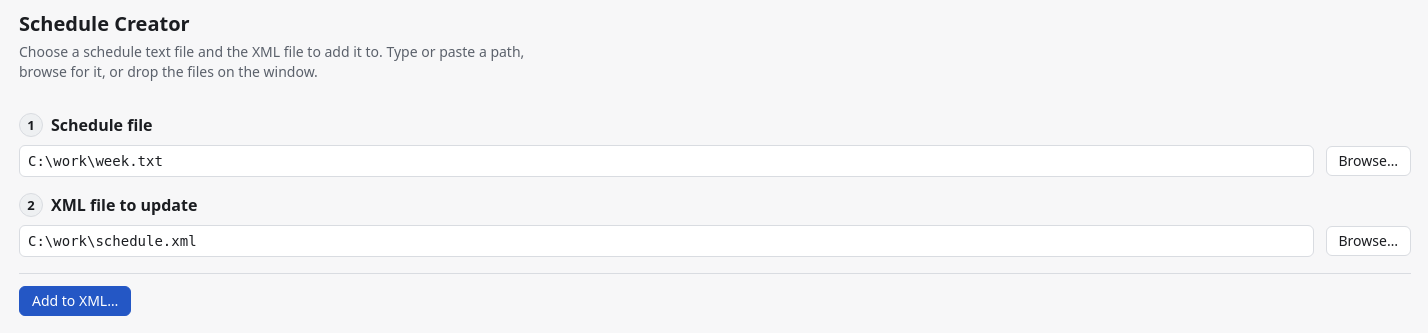
Test case: Escape restores the field
The width and height of the screenshot is (1428, 333).
Type "zzz" into the field labelled "Schedule file" at (666, 161), box x1=19 y1=145 x2=1314 y2=177
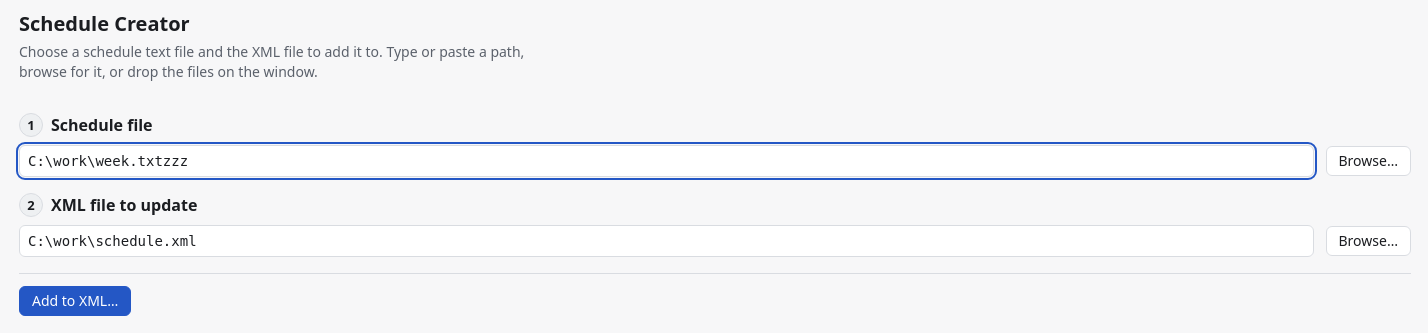
Press Escape
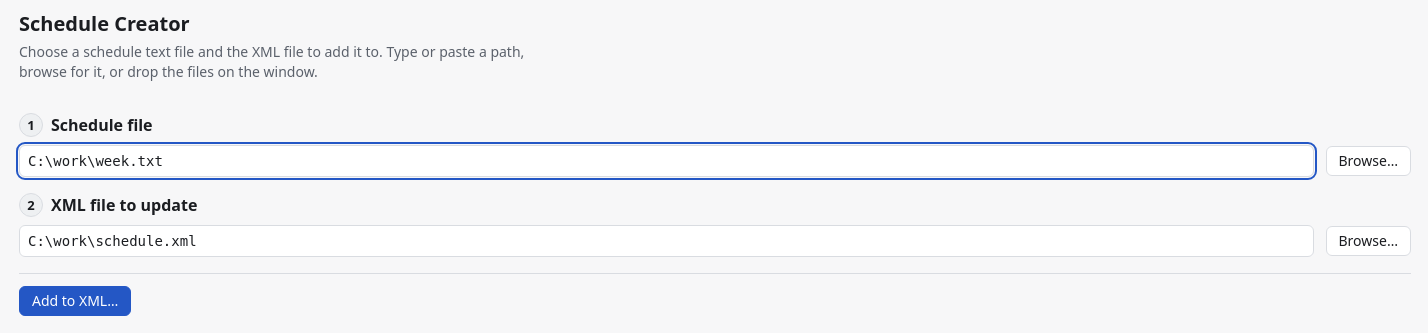
expect the field labelled "Schedule file" holds "C:\\work\\week.txt": met, box x1=19 y1=145 x2=1314 y2=177
